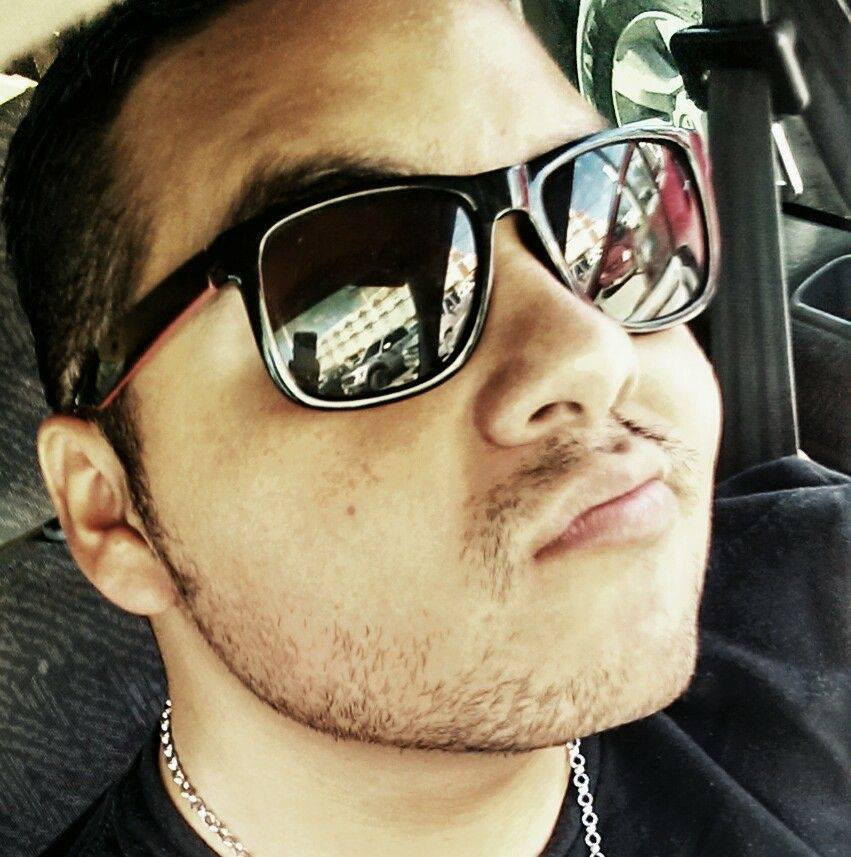Yoshi: (12, 4, 754, 784)
